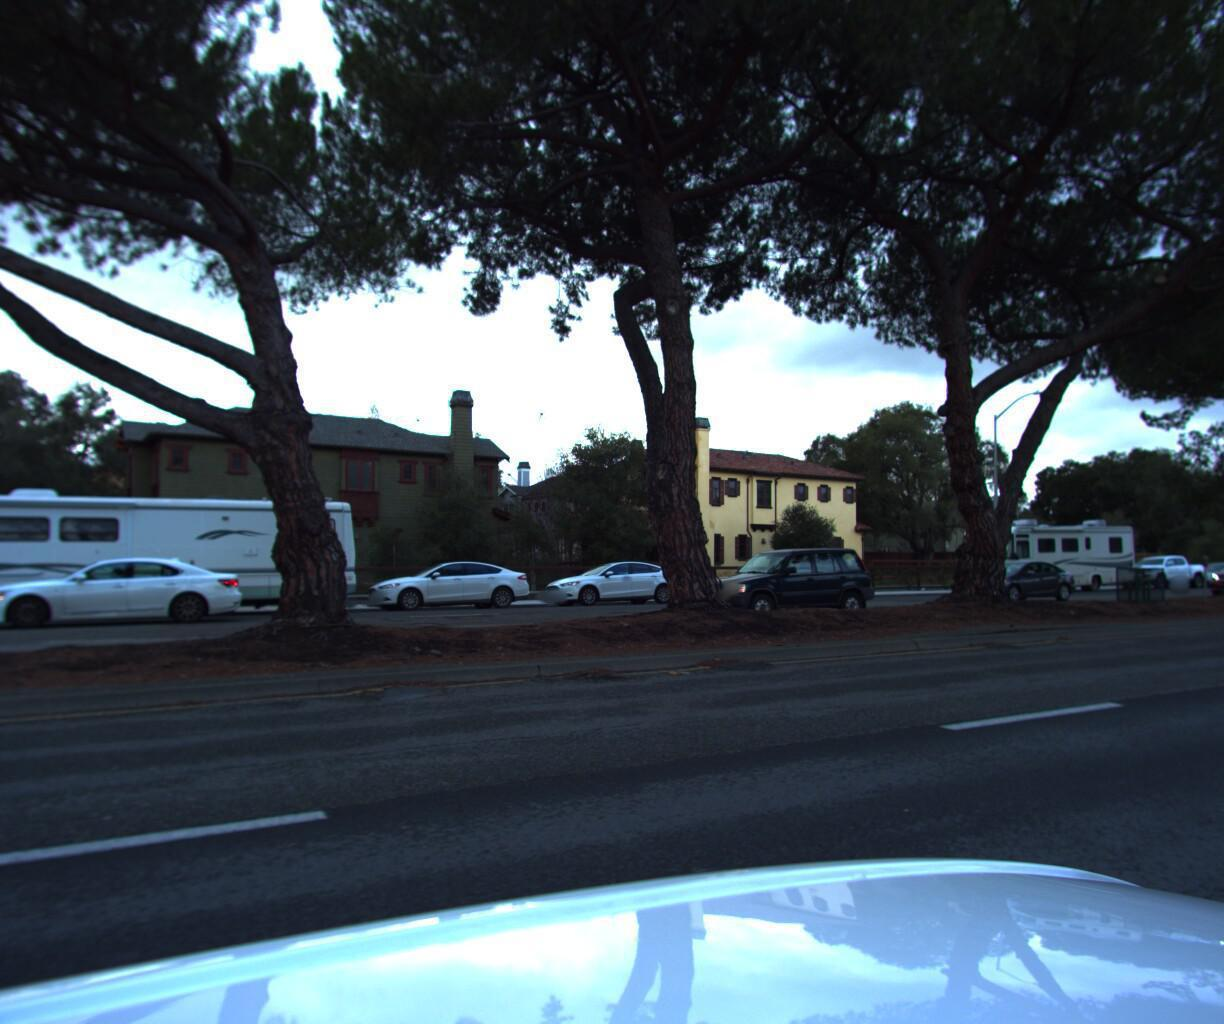car: (0, 554, 238, 628), (682, 531, 881, 609), (358, 557, 538, 613), (534, 555, 691, 609), (947, 556, 1080, 601), (1111, 547, 1208, 586), (1200, 546, 1224, 590)
other_vehicle: (0, 468, 365, 631), (940, 506, 1140, 592)
